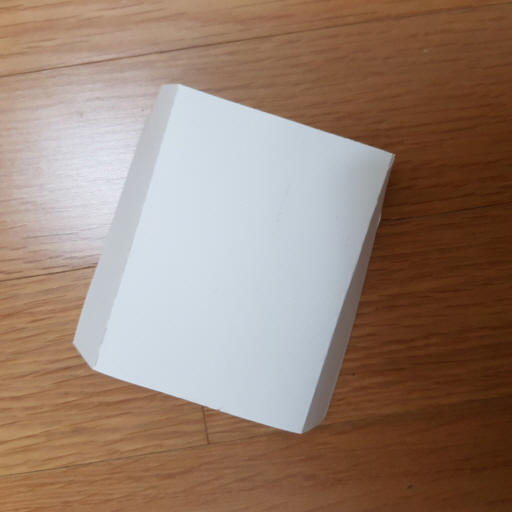Paper_3: (67, 73, 403, 429)
